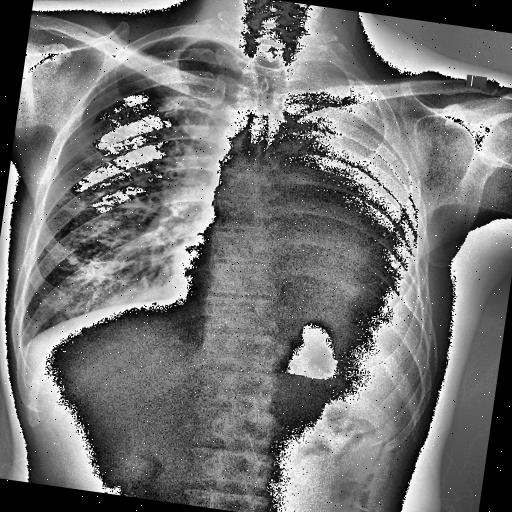10- Pleural effusion: (234, 42, 468, 412), (238, 58, 468, 366), (229, 58, 457, 340), (10, 336, 36, 362)
11- Pleural thickening: (10, 336, 36, 362)
